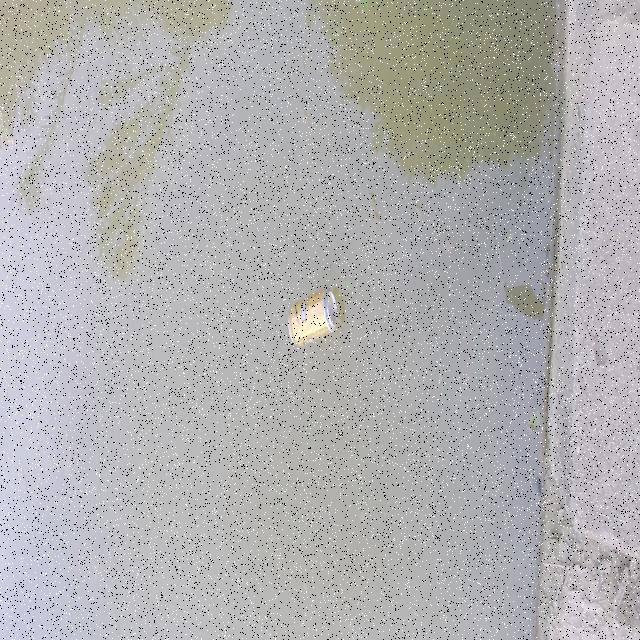Can: (284, 283, 342, 346)
